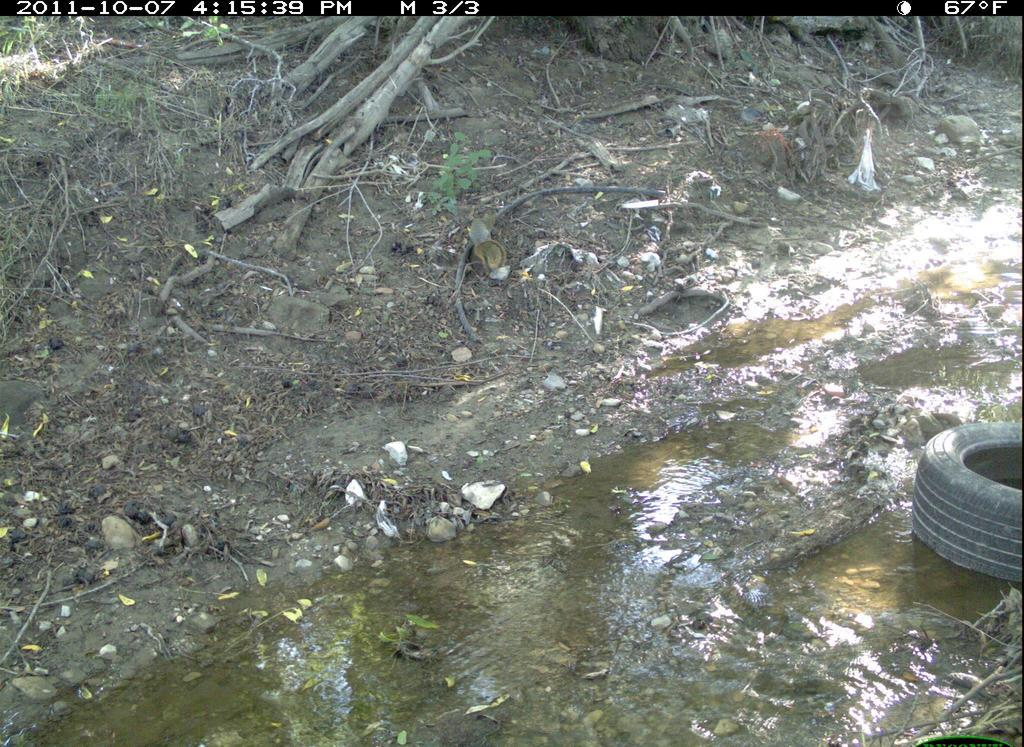squirrel: (467, 206, 509, 282)
